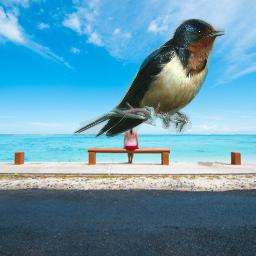Swallow: (73, 18, 225, 138)
